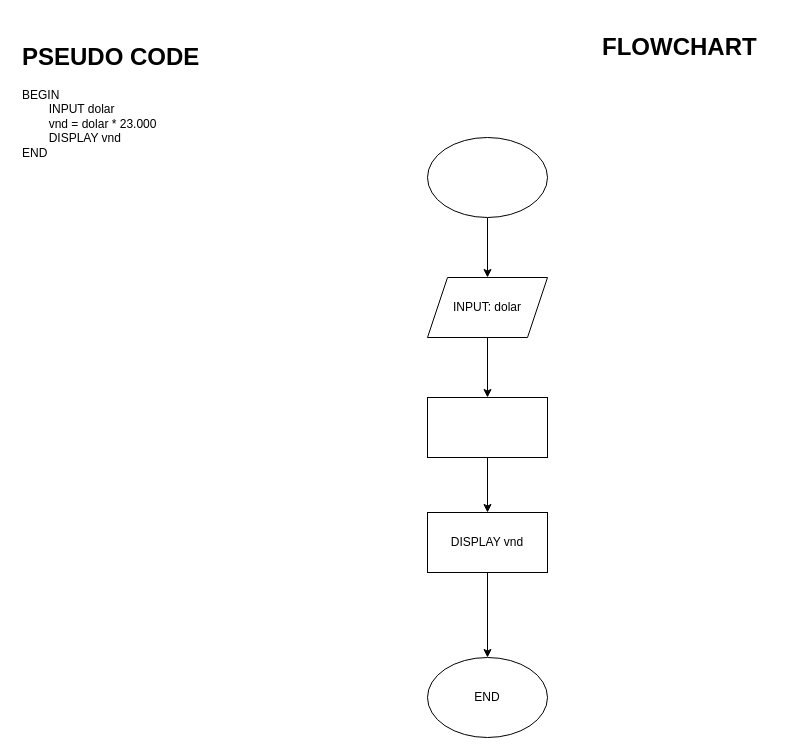
Image size: 804x755. Some labels were removed from this diagram. The shapes that lost their labels are listed below. From the top down, each one's box as (x1, y1, x2, y2) in pixels, then its label:
(426, 136, 548, 218): BEGIN
(426, 396, 548, 458): vnd = dolar * 23.000
